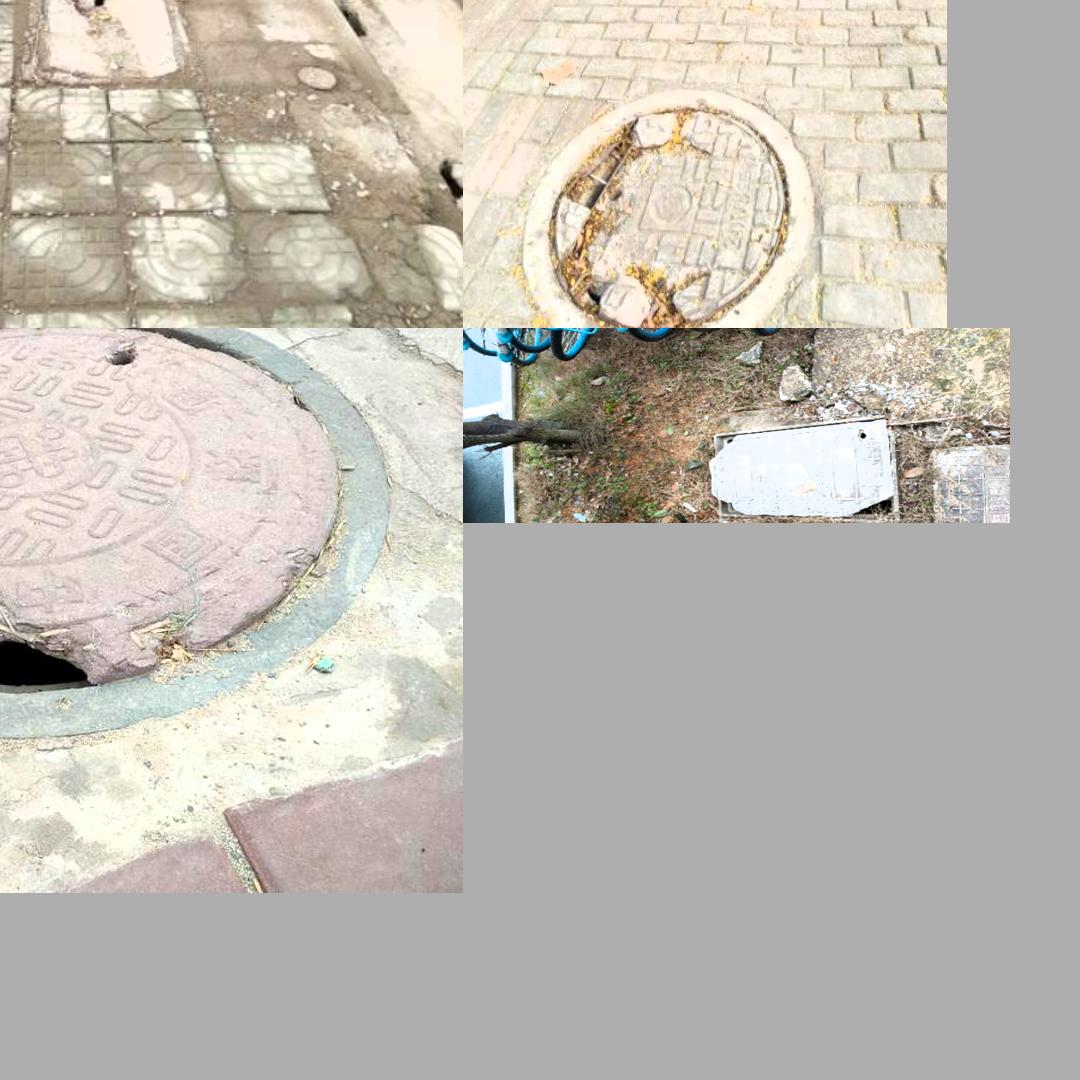broke: (0, 331, 376, 732), (521, 88, 815, 328), (704, 432, 904, 517), (19, 0, 190, 83)
